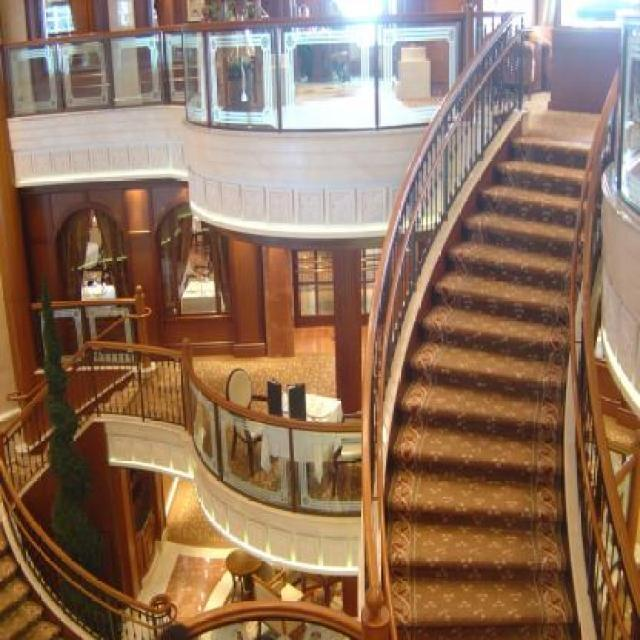stair: (383, 135, 603, 640), (0, 516, 89, 638)
